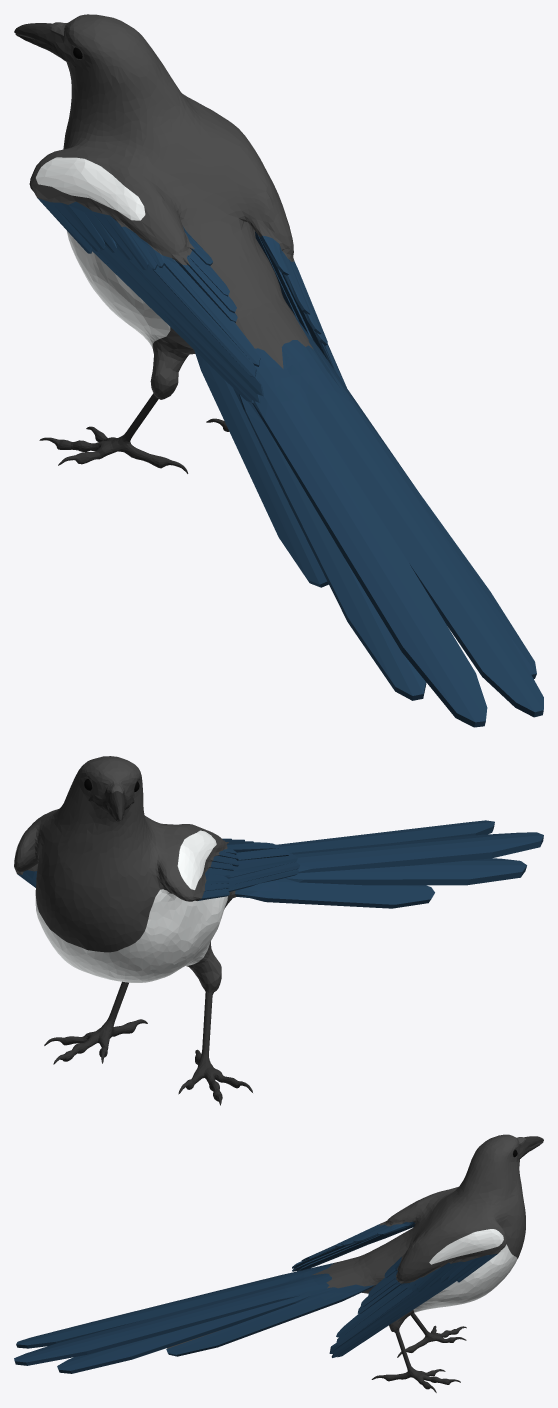
Rendered from magpiestanding.glb.
The picture shows the model from 3 angles, top to bottom: view 1: azimuth 30°, elevation 25°; view 2: azimuth 150°, elevation 25°; view 3: azimuth 270°, elevation 25°; orthographic projection. The views are drawn at different scales.
Visible parts, largest first — view 1: Mag_5_Quad_Sphere; view 2: Mag_5_Quad_Sphere; view 3: Mag_5_Quad_Sphere.
Part boxes in pixels (bbox=[...]): Mag_5_Quad_Sphere: bbox=[14, 14, 543, 727]; Mag_5_Quad_Sphere: bbox=[14, 756, 543, 1105]; Mag_5_Quad_Sphere: bbox=[14, 1134, 543, 1392].
Bounding box in the file's own units: 0.0848 × 0.1384 × 0.2999.
